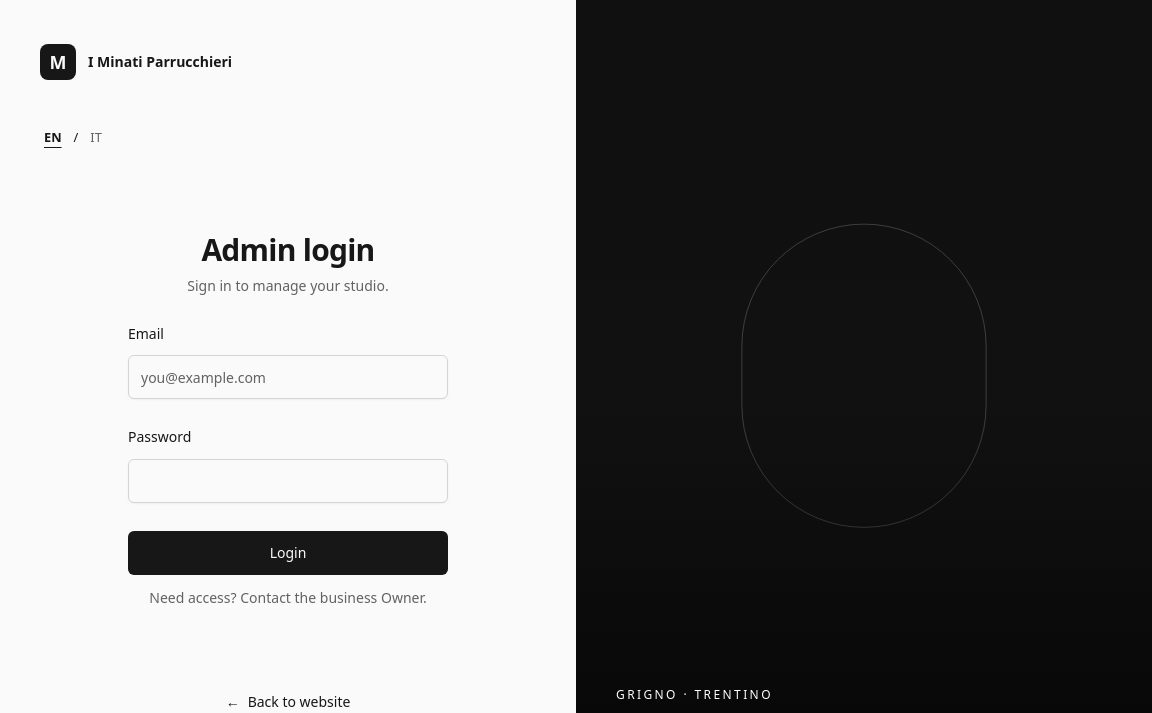
Test: login failure displays a safe error
This screenshot has width=1152, height=713.
Expected: the heading "Admin login" is shown, [201,229,374,270]
Type "owner@example.test" into the field labelled "Email". click: (288, 377)
box: [128,355,448,399]
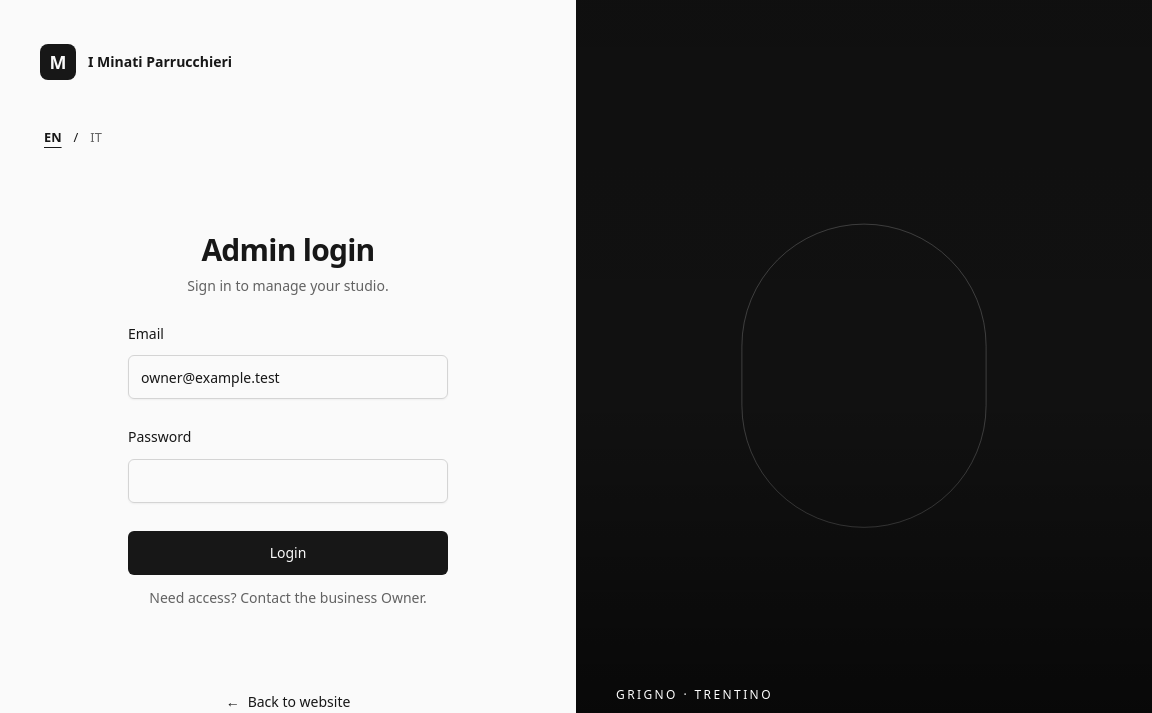
Type "incorrect" into the password field labelled "Password". click: (288, 480)
box: [128,458,448,502]
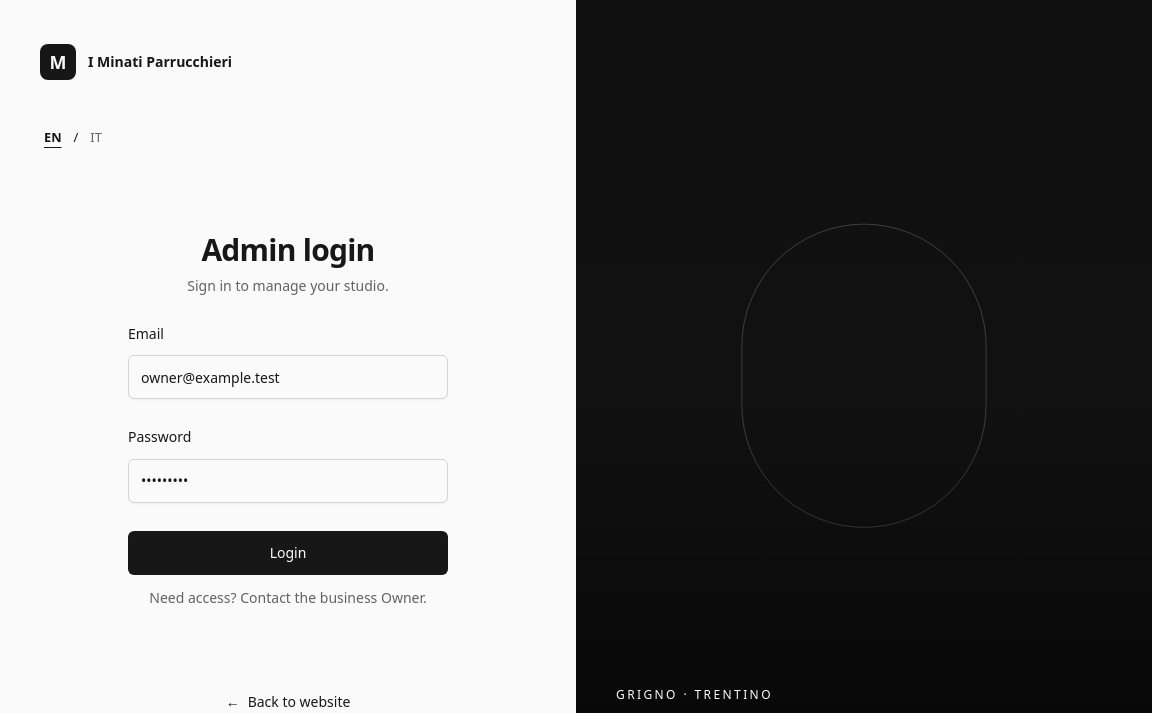
Click the button "Login". click: (288, 552)
box: [128,530,448,574]
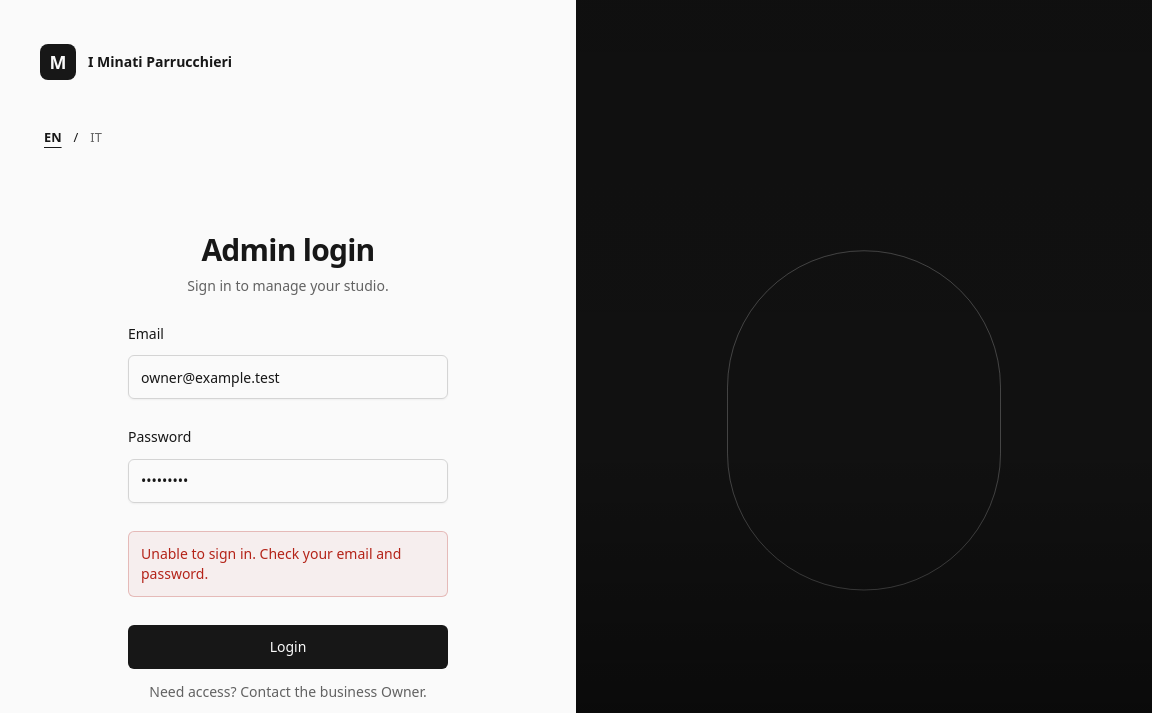
Result: the message shows "Check your email and password" at [141,544,401,582]
